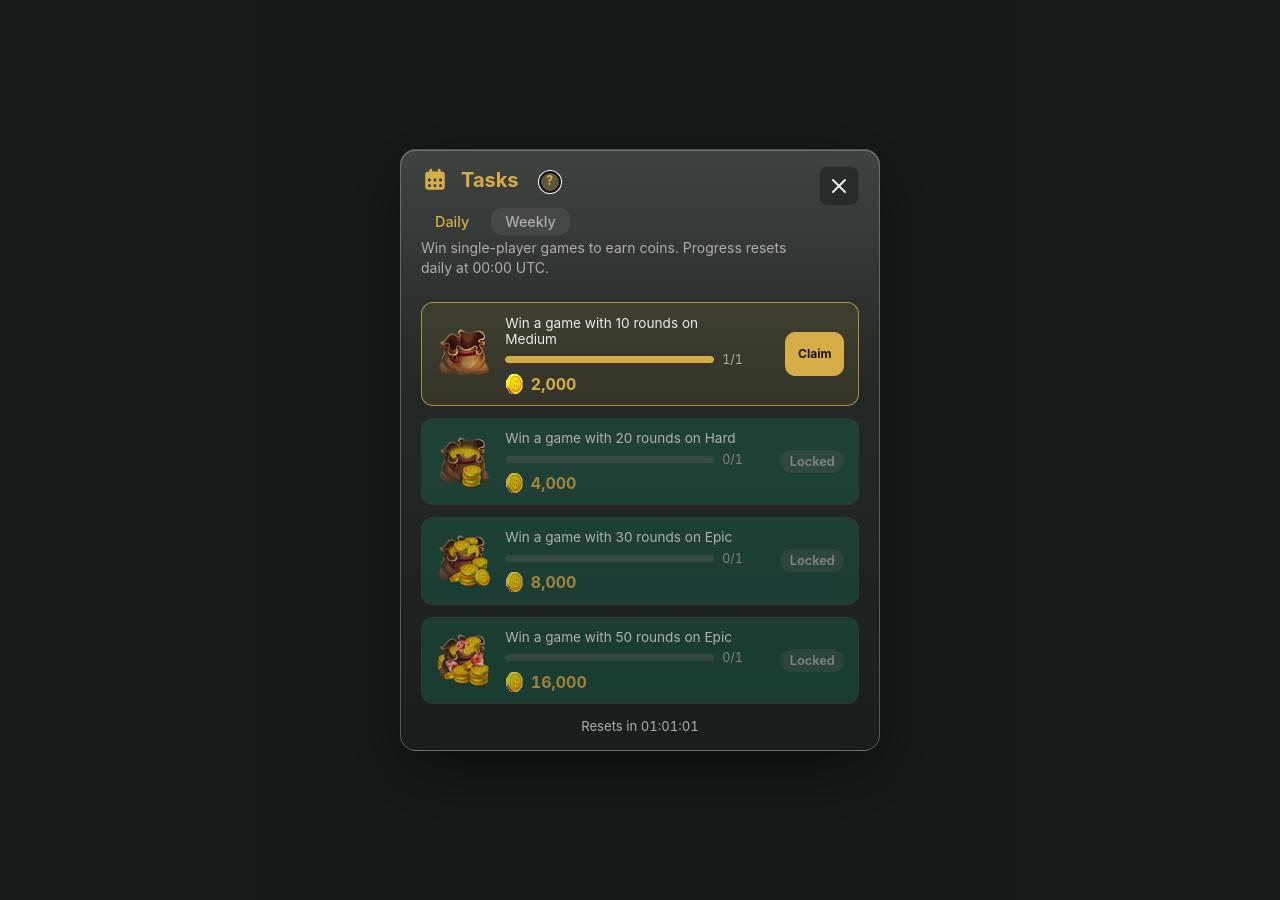
Test: DailyTasksDialog — daily tab › shows an error when the claim fails
Click the button "Claim": (815, 354) [785, 332, 844, 376]
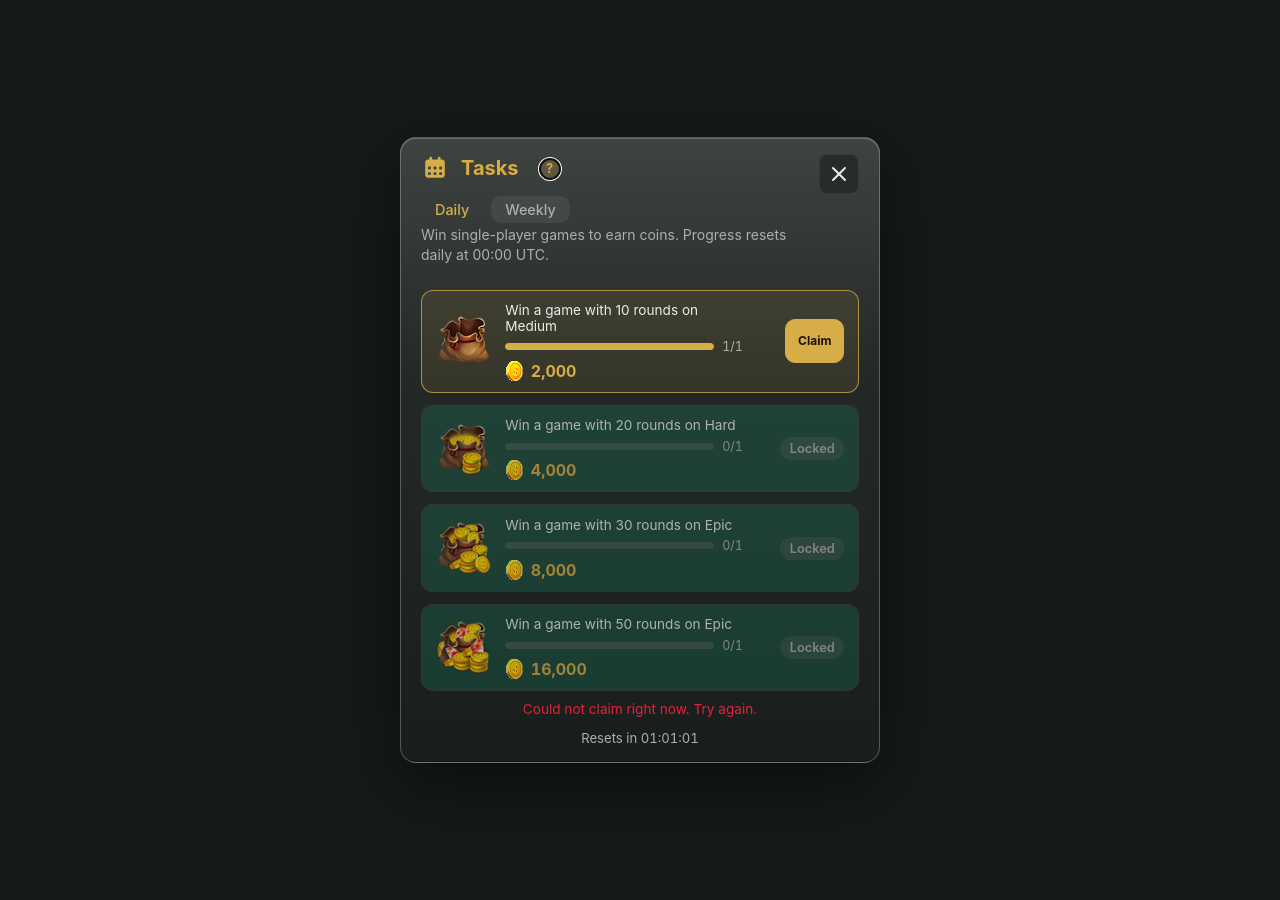
Result: the text "Could not claim right now. Try again." is shown at [523, 701, 757, 717]
